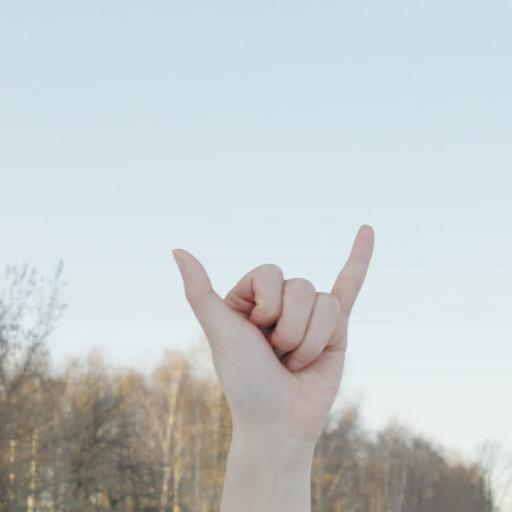Y: (160, 211, 409, 480)
